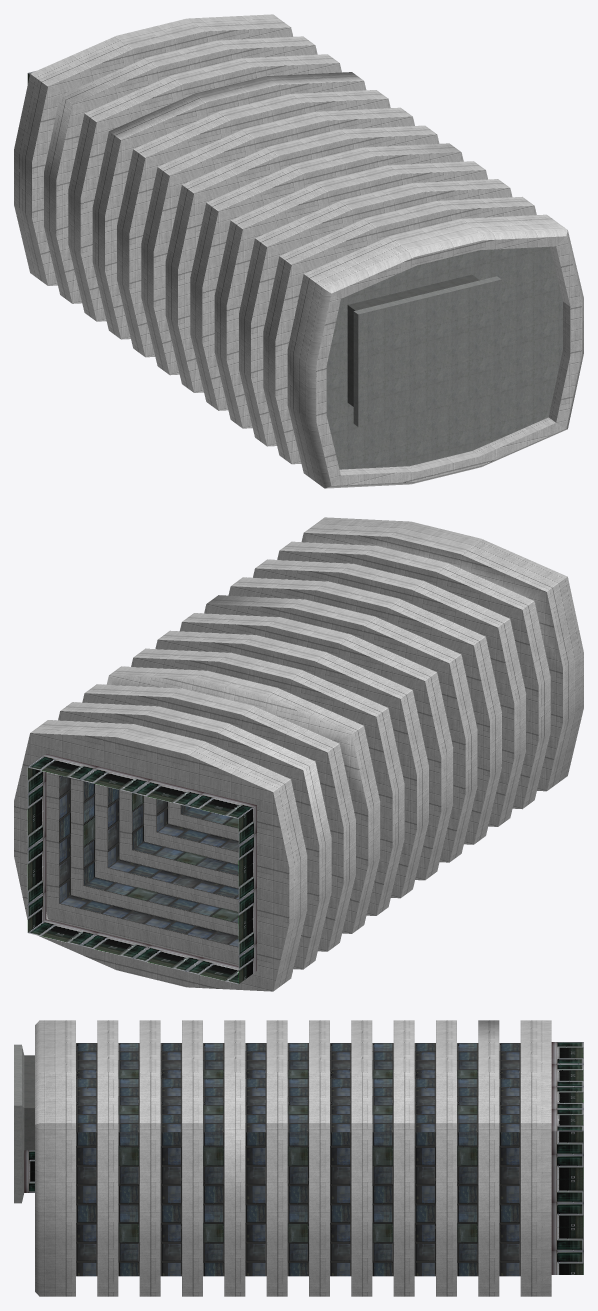
File: skyscraper_windowB_02.obj
The picture shows the model from 3 angles, top to bottom: view 1: azimuth 30°, elevation 25°; view 2: azimuth 150°, elevation 25°; view 3: azimuth 270°, elevation 25°; orthographic projection. The views are drawn at different scales.
Parts seen in each view (by area): view 1: Object21; view 2: Object21; view 3: Object21.
Boxes of the visible parts, x1,y1,x2,y2 form: Object21: (14, 14, 583, 488); Object21: (14, 517, 583, 991); Object21: (14, 1020, 583, 1296).
Size of the model in its own units: 52.23 by 42.23 by 108.
5 materials, 5 textured.
